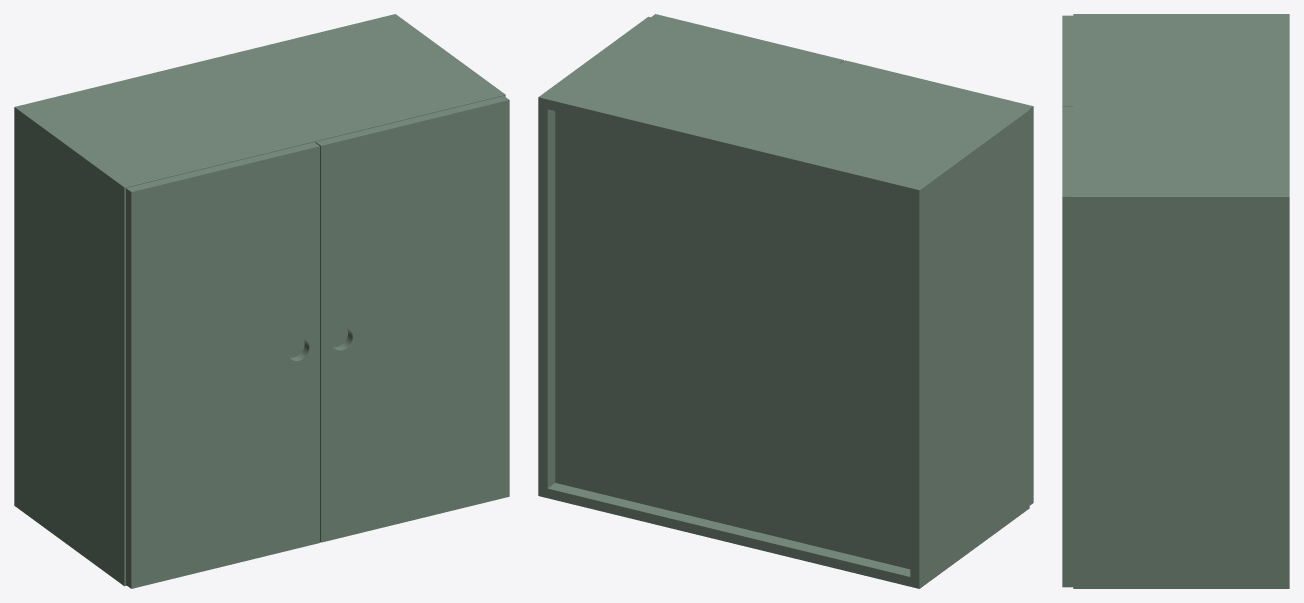
The model's file is MOD_2X2_DD_B_VA.glb.
The picture shows the model from 3 angles, left to right: view 1: azimuth 30°, elevation 25°; view 2: azimuth 150°, elevation 25°; view 3: azimuth 270°, elevation 25°; orthographic projection.
Size of the model in its own units: 720 by 720 by 378.
